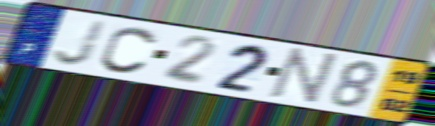2: (210, 42, 272, 97), (161, 34, 219, 88)
8: (329, 59, 382, 109)
C: (98, 25, 161, 76)
J: (50, 18, 110, 67)
N: (265, 46, 342, 108)
